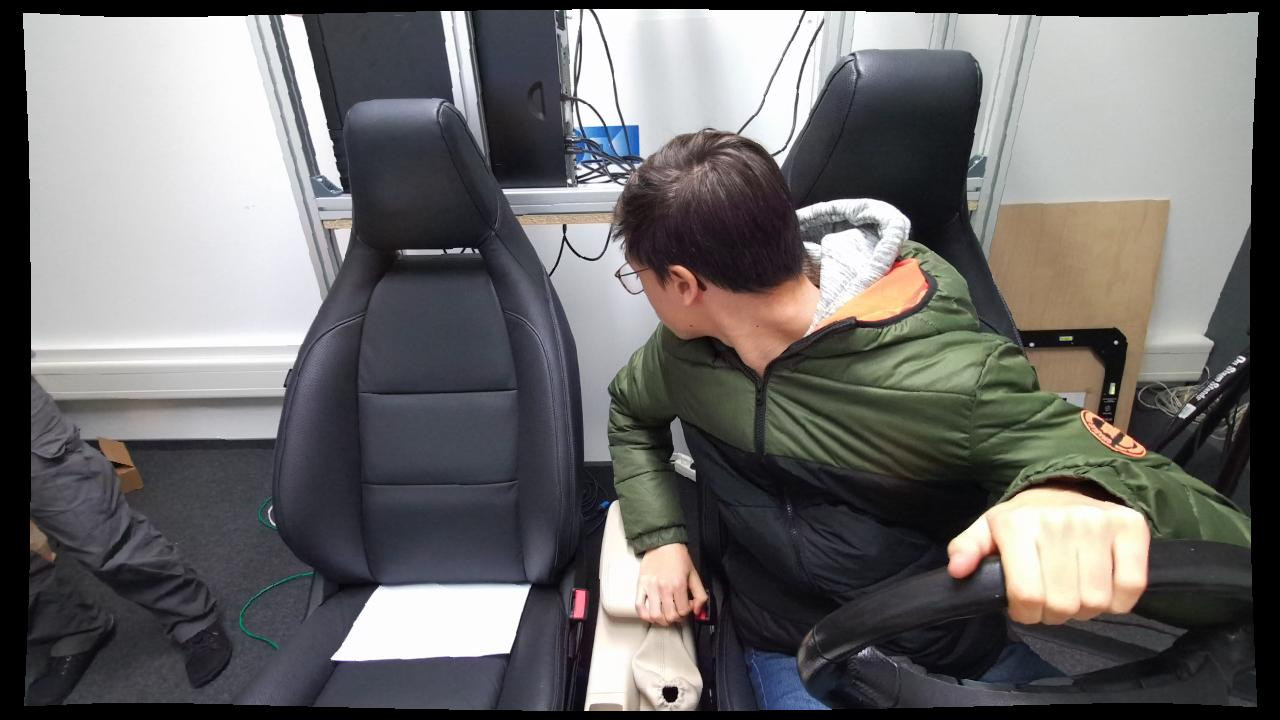Distracted: (608, 125, 1024, 713)
